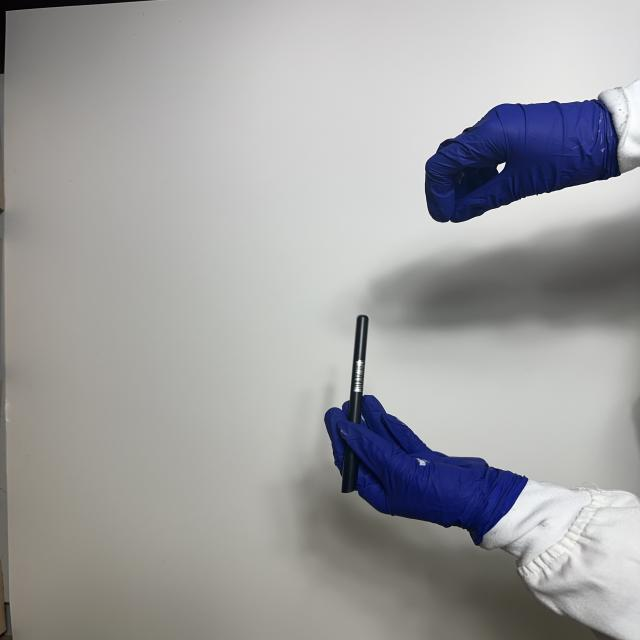gloves_contaminated: (325, 395, 527, 545), (425, 100, 620, 222)
